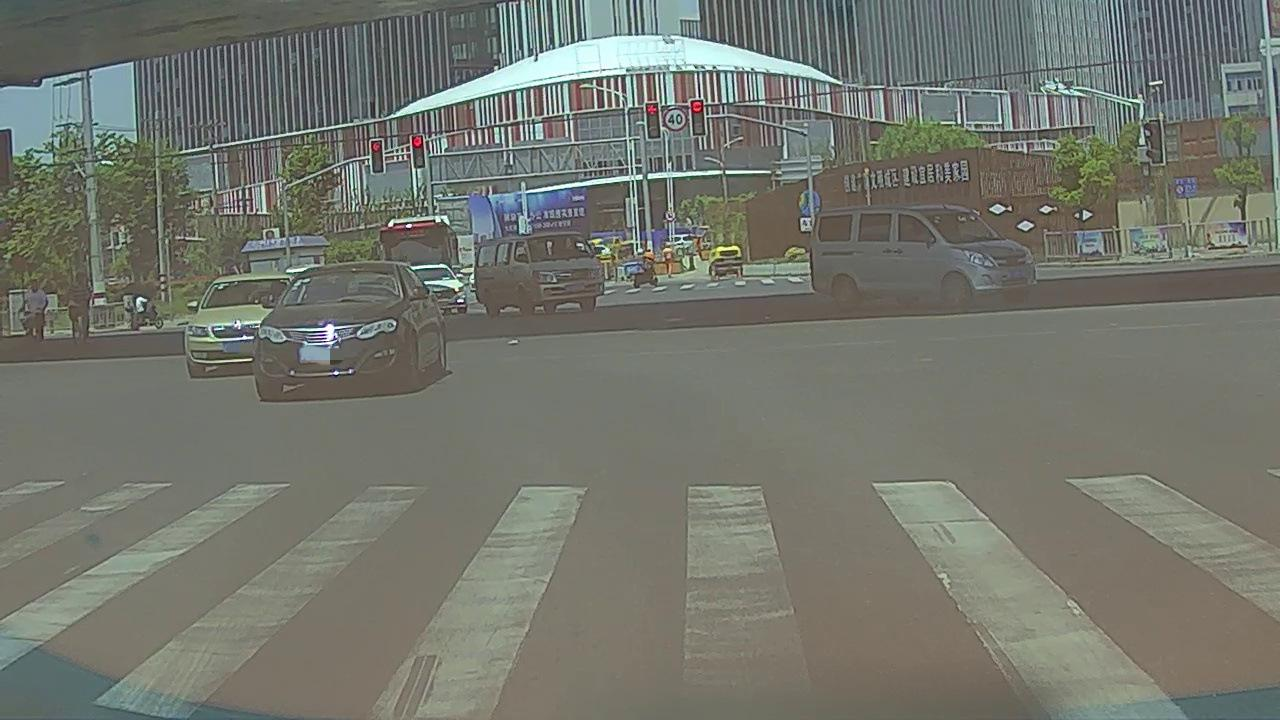traffic_light: (410, 134, 426, 168), (646, 103, 661, 139), (691, 99, 705, 137), (371, 141, 383, 173)
